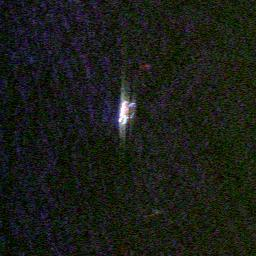Ship: (115, 96, 135, 124)
